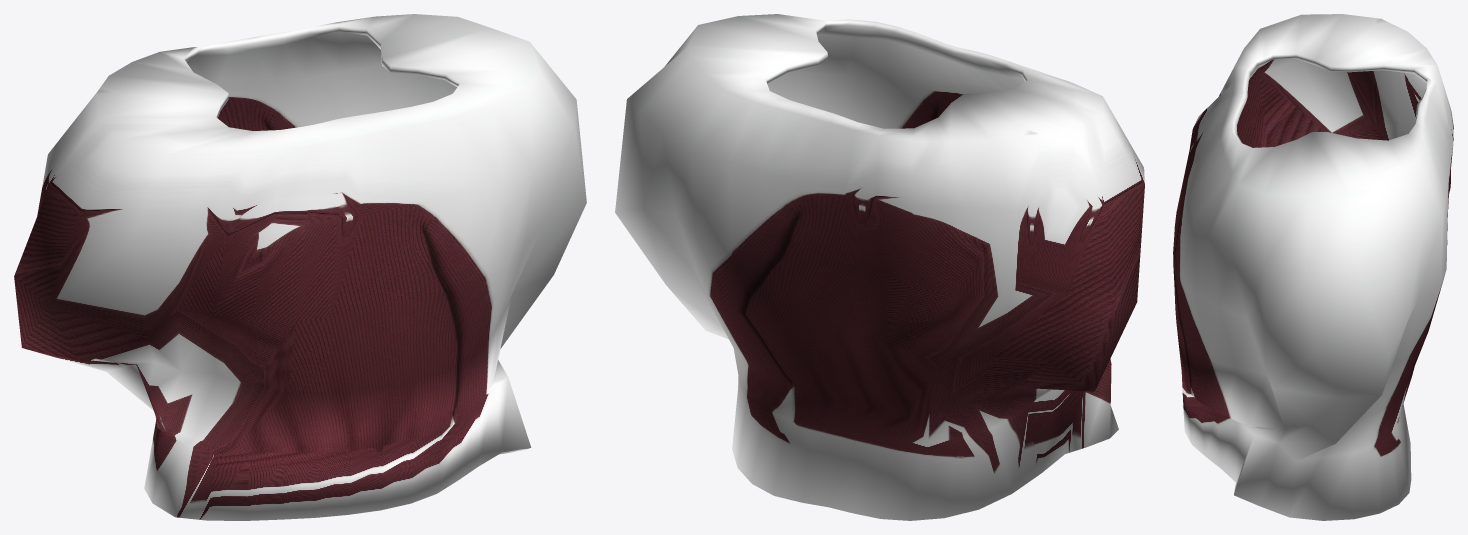
Rendered from 397bab4c-25b2-47ec-8a93-8d70ac1885d0.glb.
The picture shows the model from 3 angles, left to right: view 1: azimuth 30°, elevation 25°; view 2: azimuth 150°, elevation 25°; view 3: azimuth 270°, elevation 25°; orthographic projection. The views are drawn at different scales.
Parts seen in each view (by area): view 1: garment; view 2: garment; view 3: garment.
Boxes of the visible parts, x1,y1,x2,y2 form: garment: (14,14,586,520); garment: (615,14,1144,520); garment: (1173,14,1453,520).
Bounding box in the file's own units: 0.577 × 0.4418 × 0.3052.
1 material, 1 textured.
